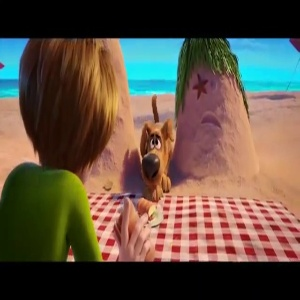Scooby: (139, 120, 177, 192)
